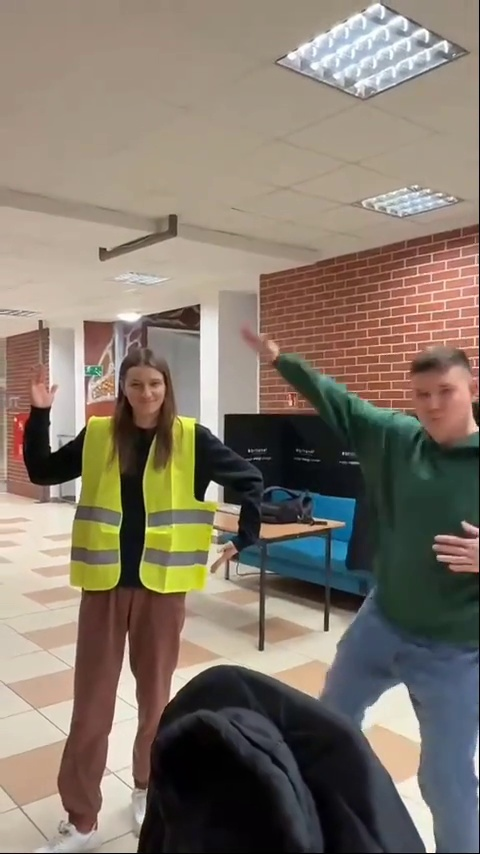no vest: (290, 331, 480, 836)
vest: (42, 344, 267, 815)
